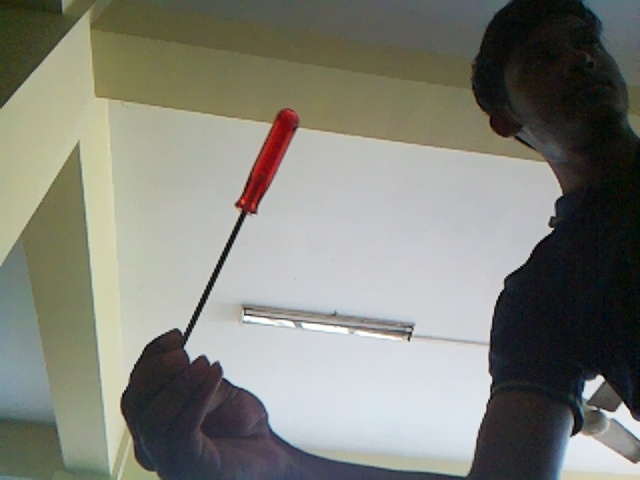redskrew: (183, 108, 299, 363)
